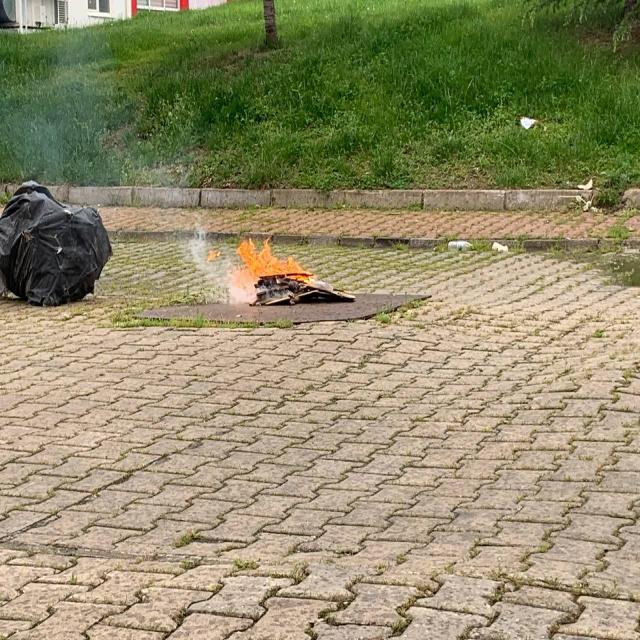fire: (228, 234, 308, 278)
